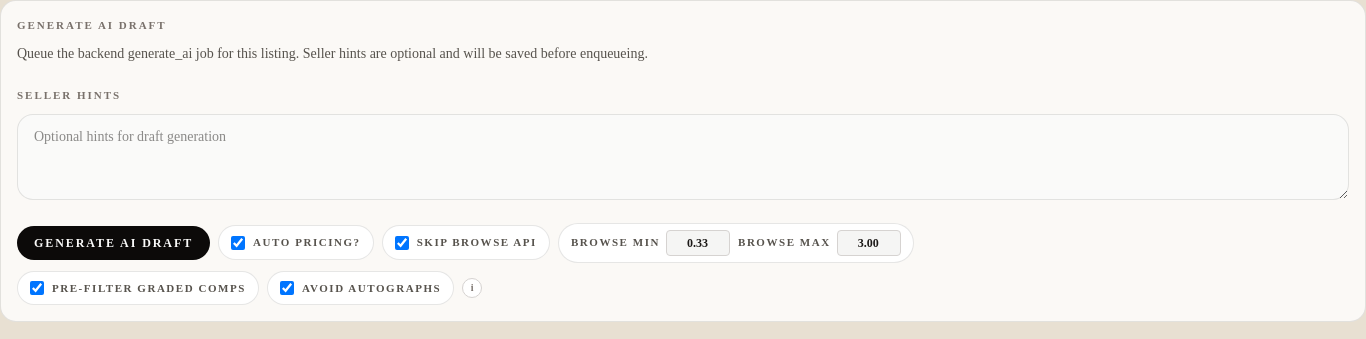
Test case: ListingGenerateControls › preserves the explicit Skip Browse API choice across Auto Pricing changes
Click the checkbox labelled "Auto Pricing?": [238, 242] box [231,236,245,250]
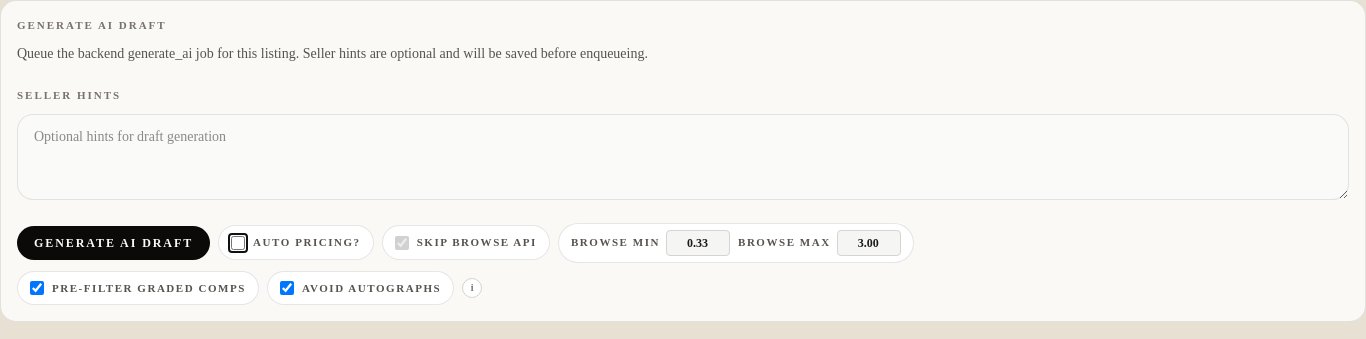
Expected: the checkbox labelled "Skip Browse API" is checked, [395,236,409,250]
Expected: the checkbox labelled "Skip Browse API" is disabled, [395,236,409,250]
Click the checkbox labelled "Auto Pricing?": [238, 242] box [231,236,245,250]
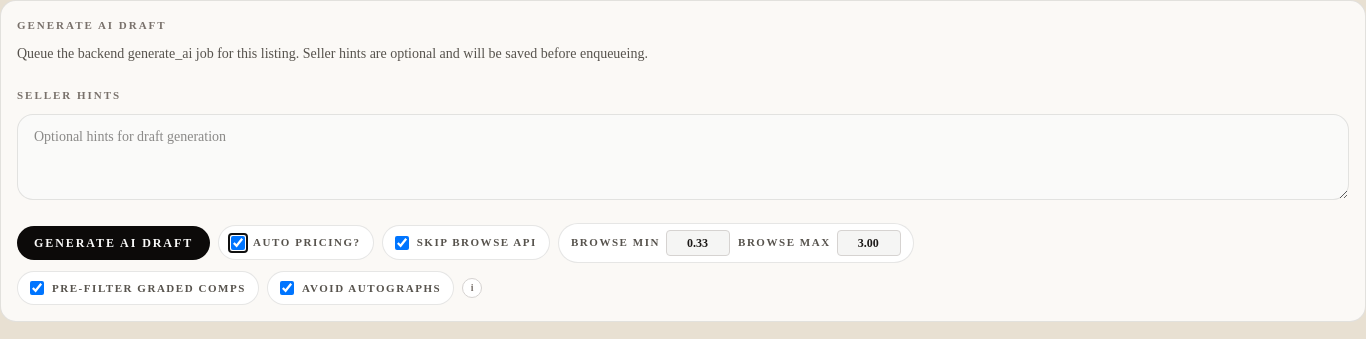
Expected: the checkbox labelled "Skip Browse API" is checked, [395,236,409,250]
Expected: the checkbox labelled "Skip Browse API" is enabled, [395,236,409,250]
